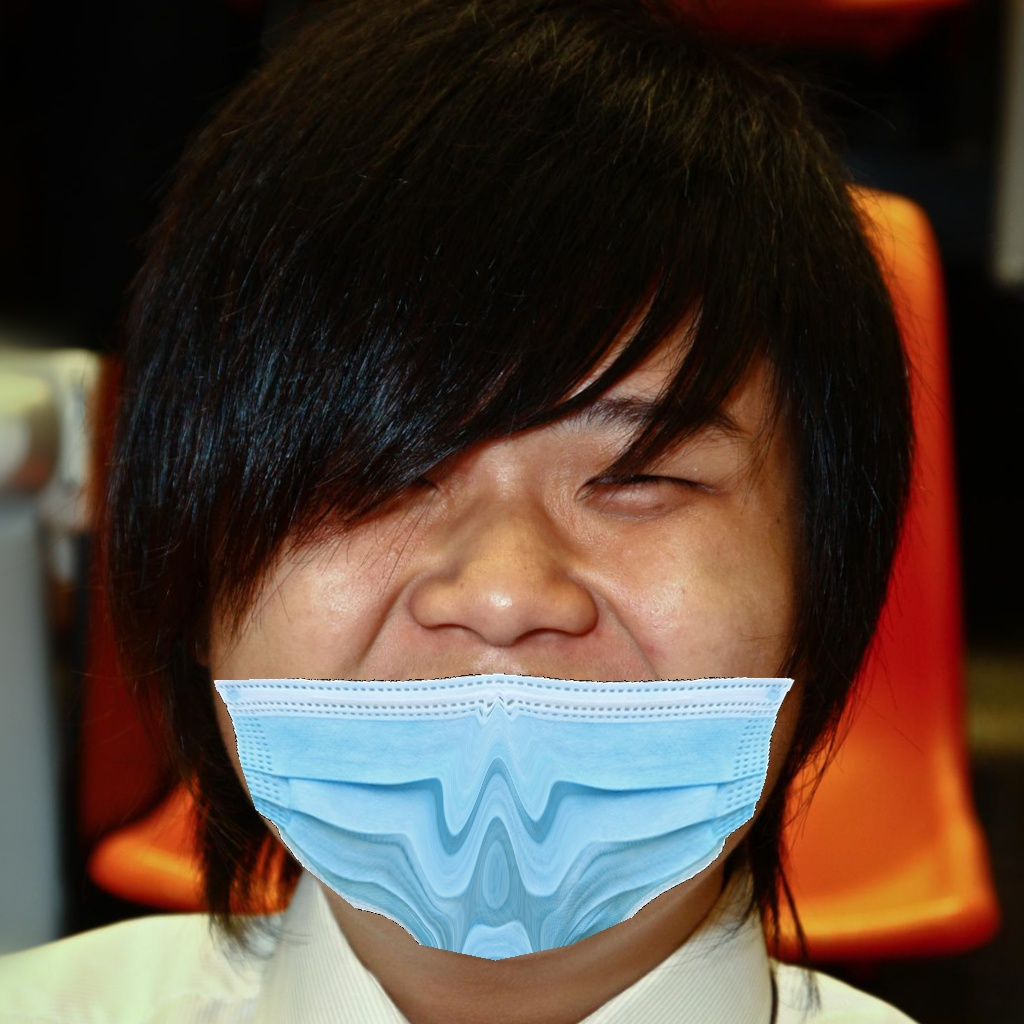mask_weared_incorrect: (184, 339, 850, 979)
